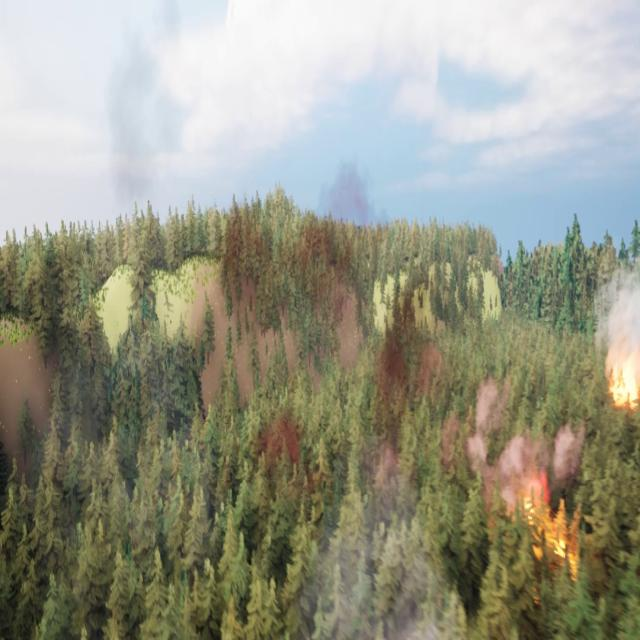fire: (514, 476, 576, 570), (601, 349, 640, 414)
smoke: (304, 488, 459, 639), (467, 380, 586, 510), (598, 251, 640, 356)
